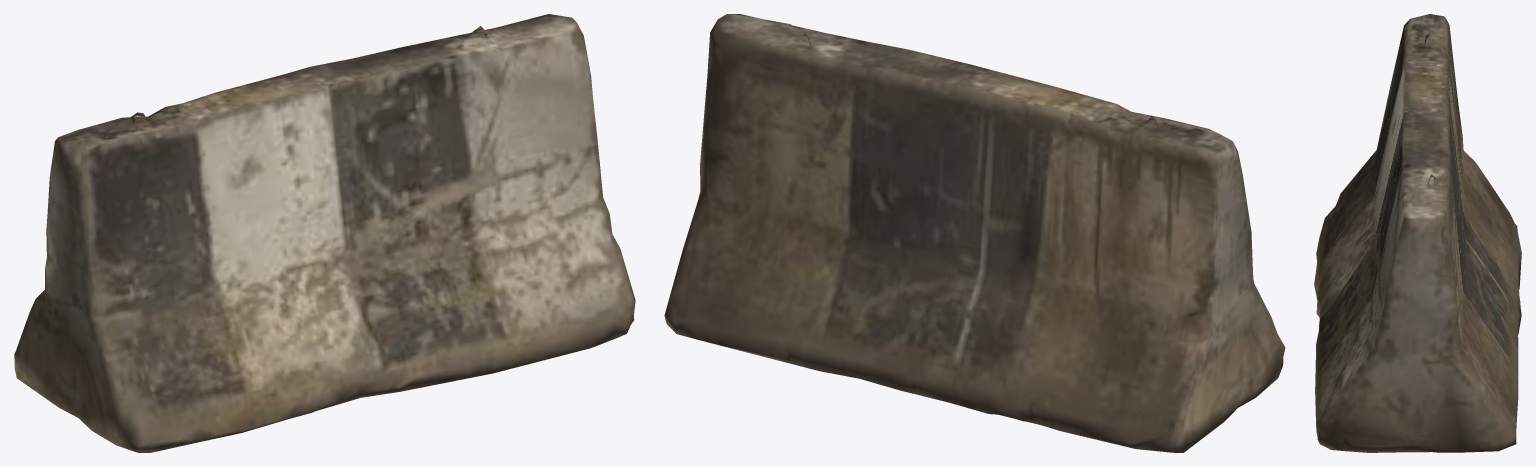
3 views of the same model, side by side, from view 1: azimuth 30°, elevation 25°; view 2: azimuth 150°, elevation 25°; view 3: azimuth 270°, elevation 25° (orthographic). The views are drawn at different scales.
Visible parts, largest first — view 1: concrete_road_barrier; view 2: concrete_road_barrier; view 3: concrete_road_barrier.
Part boxes in pixels (x1=…): concrete_road_barrier: x1=14, y1=14, x2=635, y2=452; concrete_road_barrier: x1=664, y1=14, x2=1285, y2=452; concrete_road_barrier: x1=1314, y1=14, x2=1521, y2=452.
Bounding box in the file's own units: 1.54 × 0.8297 × 0.638.
Materials: 1 (1 with a texture image).
